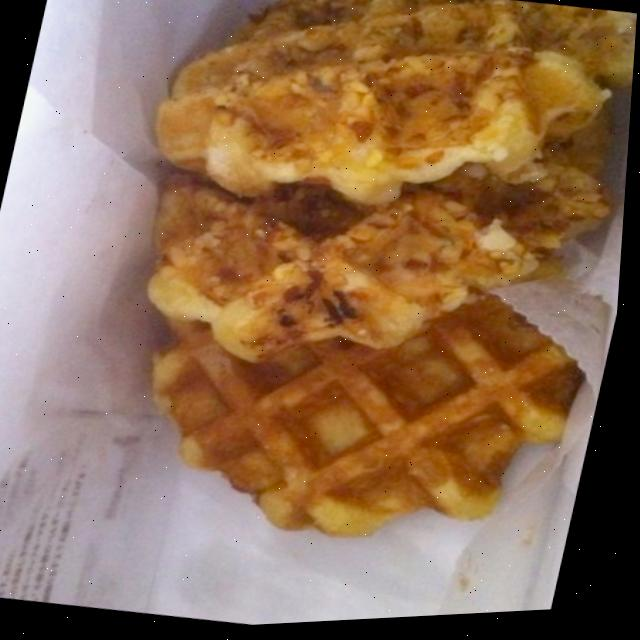炸货点心: (57, 0, 640, 607)
蛋糕甜品: (57, 0, 640, 607)
